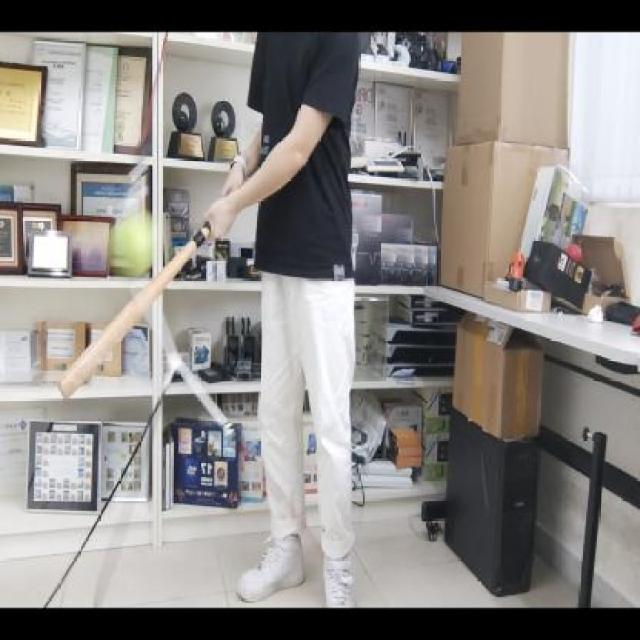baseball: (114, 212, 161, 280)
